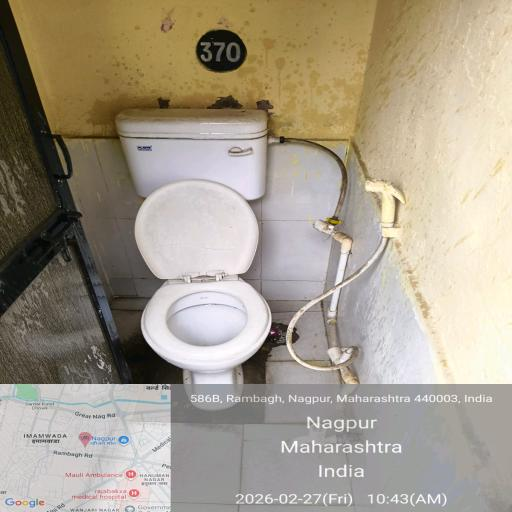clean_western: (150, 248, 286, 408)
partial_dirty_floor: (99, 278, 512, 504), (62, 39, 468, 180), (0, 139, 151, 512)
